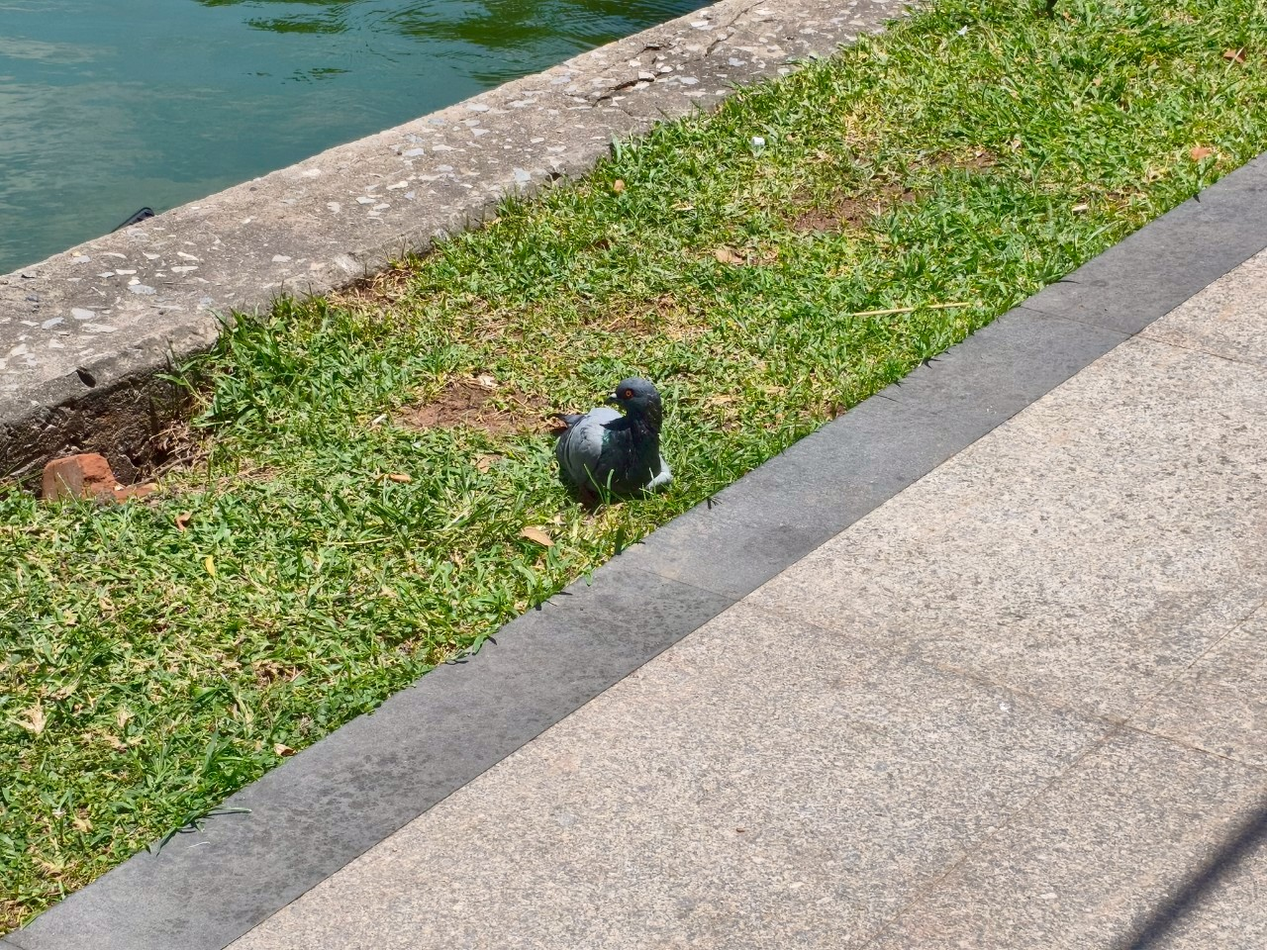Pigeon: (555, 377, 671, 507)
